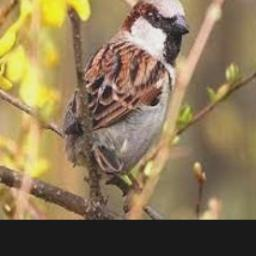Sparrow: (63, 0, 191, 193)
